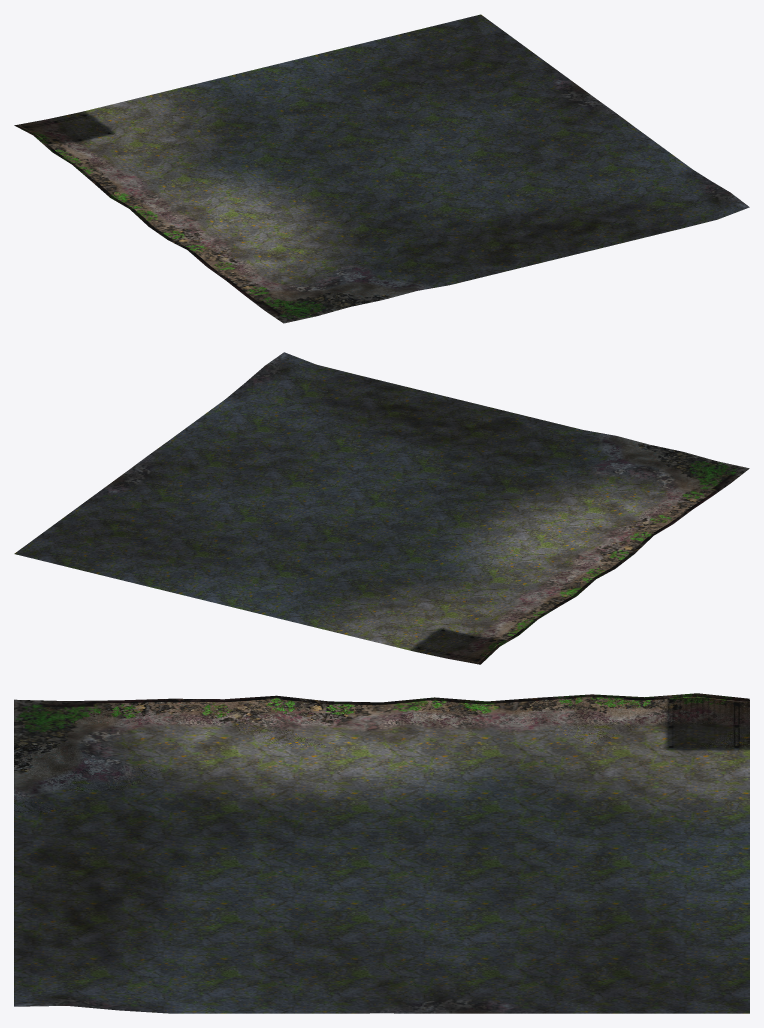
File: terrain3.glb
3 renders of one model, top to bottom at view 1: azimuth 30°, elevation 25°; view 2: azimuth 150°, elevation 25°; view 3: azimuth 270°, elevation 25°, orthographic. The views are drawn at different scales.
Parts seen in each view (by area): view 1: Terrain.003; view 2: Terrain.003; view 3: Terrain.003.
Boxes of the visible parts, x1,y1,x2,y2 form: Terrain.003: (14, 14, 749, 323); Terrain.003: (14, 352, 749, 664); Terrain.003: (14, 693, 749, 1013).
Bounding box in the file's own units: 44.06 × 0.6323 × 44.07.
1 material, 1 textured.
